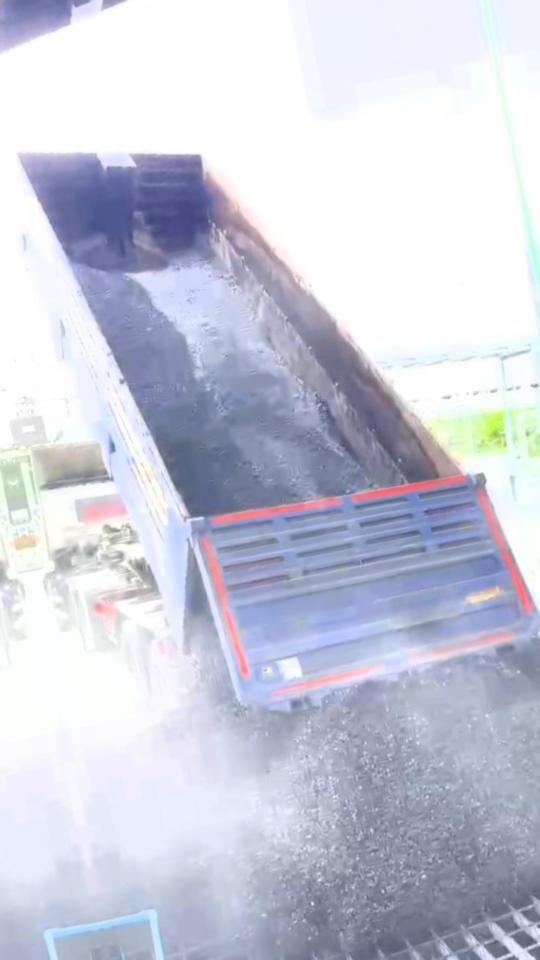gravel: (195, 640, 540, 944), (75, 250, 371, 516)
